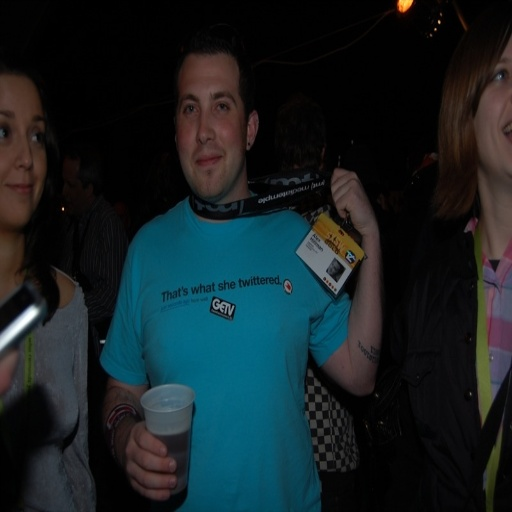hand: (333, 151, 387, 251), (122, 416, 178, 503)
